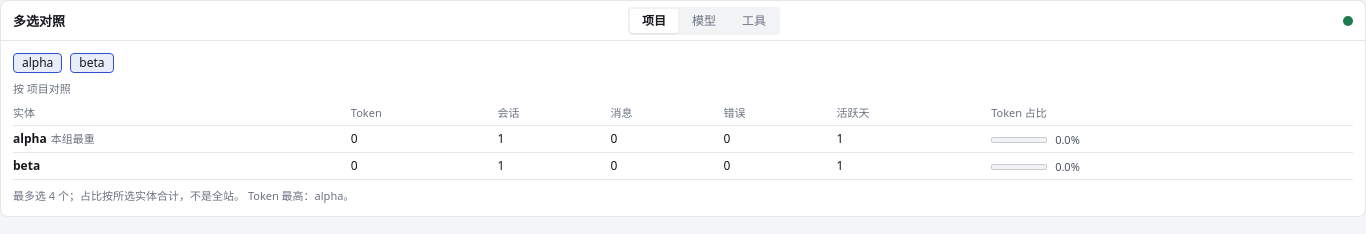
Scenario: MultiComparePanel（I4 多选对照） › 工具维度不渲染 Token 与占比两列，只留诚实脚注
The image size is (1366, 234).
Step 1. Click the tab "工具" → click(754, 20), box [730,8,778,32]
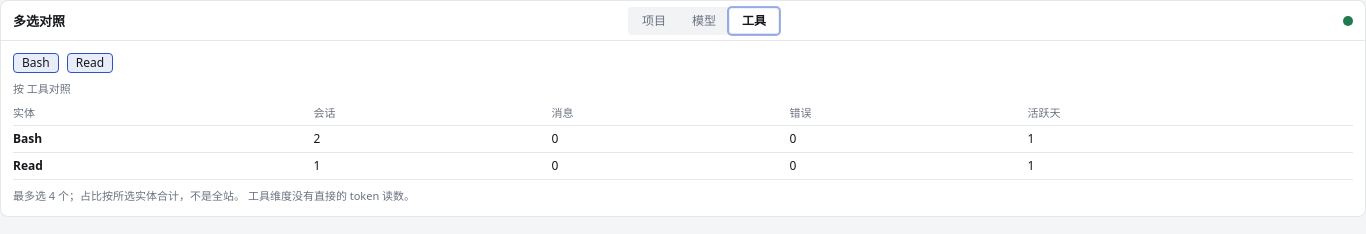
Expected: the column heading "Token 占比" is gone
Expected: the text "最多选 4 个；占比按所选实体合计，不是全站。 工具维度没有直接的 token 读数。" is shown, [13,188,415,203]
Expected: the text "Token 最高：" is gone
